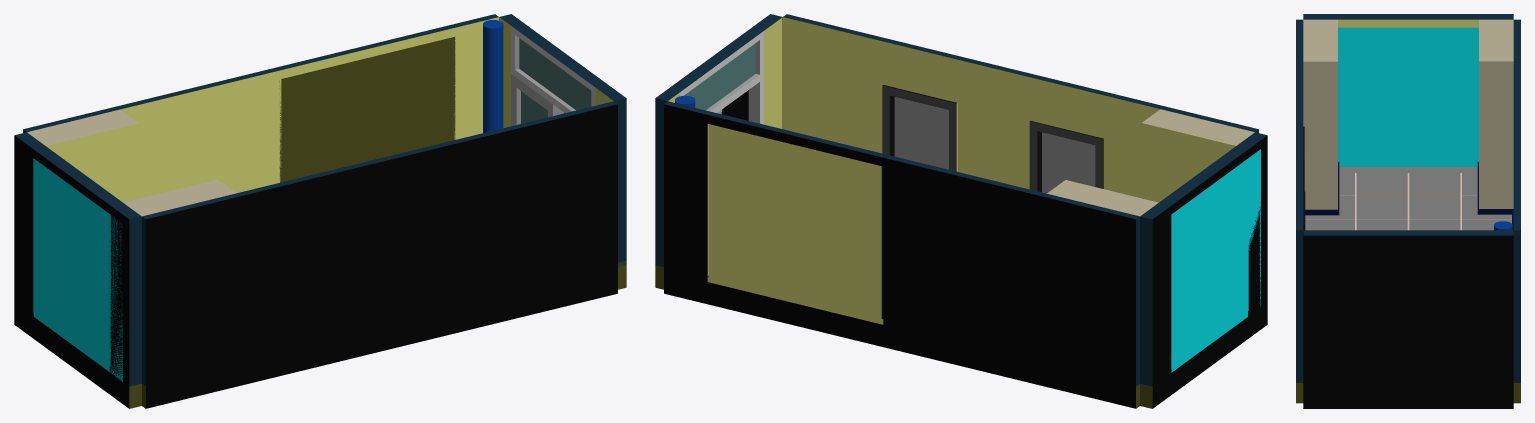
File: hall.fbx
3 renders of one model, left to right at view 1: azimuth 30°, elevation 25°; view 2: azimuth 150°, elevation 25°; view 3: azimuth 270°, elevation 25°, orthographic. The views are drawn at different scales.
Parts seen in each view (by area): view 1: wallN, wallS, doorS, wallE, doorE, wallW; view 2: wallS, wallN, doorS, doorE, wallE, wallW; view 3: wallW, doorE, wallN, wallS, floor, wallE.
Boxes of the visible parts, bbox=[...] form: wallN: bbox=[123, 101, 617, 408]; wallS: bbox=[23, 14, 498, 202]; doorS: bbox=[279, 37, 455, 182]; wallE: bbox=[14, 132, 141, 408]; doorE: bbox=[33, 158, 122, 381]; wallW: bbox=[483, 14, 626, 289]; wallS: bbox=[664, 101, 1158, 408]; wallN: bbox=[783, 14, 1258, 202]; doorS: bbox=[709, 124, 881, 324]; doorE: bbox=[1171, 149, 1260, 372]; wallE: bbox=[1140, 132, 1267, 408]; wallW: bbox=[655, 14, 782, 289]; wallW: bbox=[1303, 221, 1513, 408]; doorE: bbox=[1338, 27, 1478, 166]; wallN: bbox=[1296, 19, 1339, 403]; wallS: bbox=[1477, 19, 1520, 403]; floor: bbox=[1305, 172, 1511, 230]; wallE: bbox=[1303, 14, 1513, 172].
Size of the model in its own units: 700 by 255 by 300.
